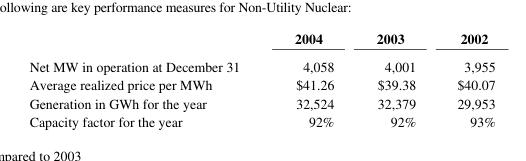table: (28, 28, 494, 129)
table column: (28, 28, 266, 129), (266, 28, 354, 129), (354, 28, 435, 129), (435, 28, 494, 129)
table column header: (28, 28, 494, 52)
table row: (28, 28, 494, 52), (28, 52, 494, 74), (28, 74, 494, 93), (28, 93, 494, 111), (28, 111, 494, 129)
